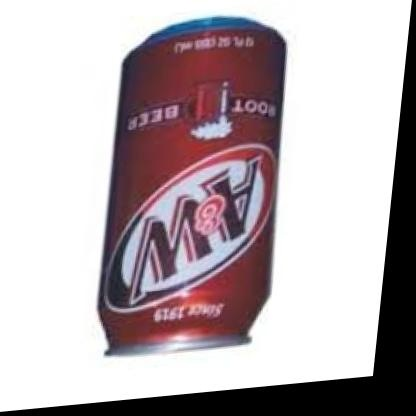trash: (98, 17, 284, 354)
